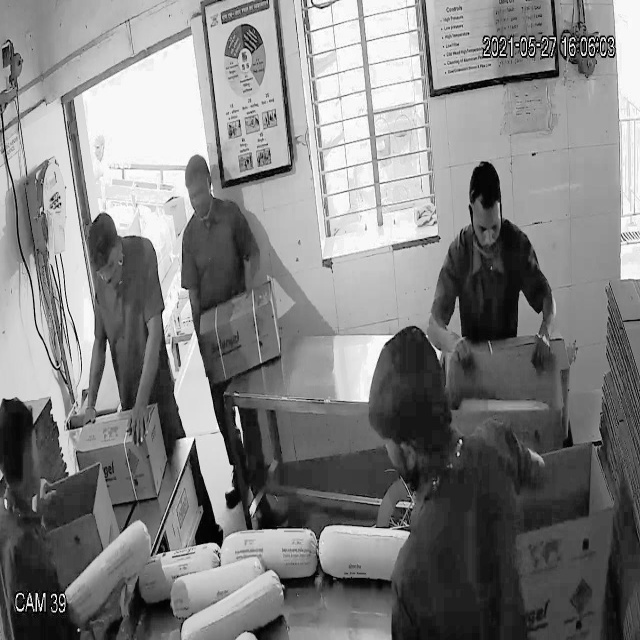Sin_gafas: (468, 202, 507, 244), (88, 252, 127, 287)
